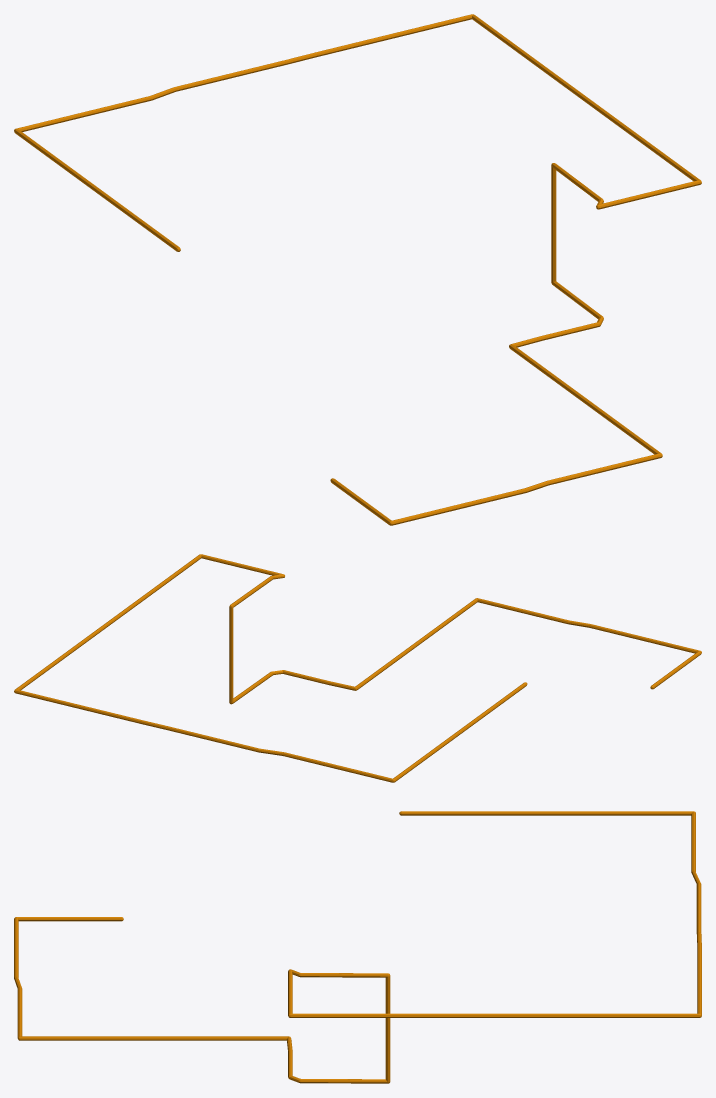
The picture shows the model from 3 angles, top to bottom: view 1: azimuth 30°, elevation 25°; view 2: azimuth 150°, elevation 25°; view 3: azimuth 270°, elevation 25°; orthographic projection. The views are drawn at different scales.
Size of the model in its own units: 2071 by 520 by 2943.
